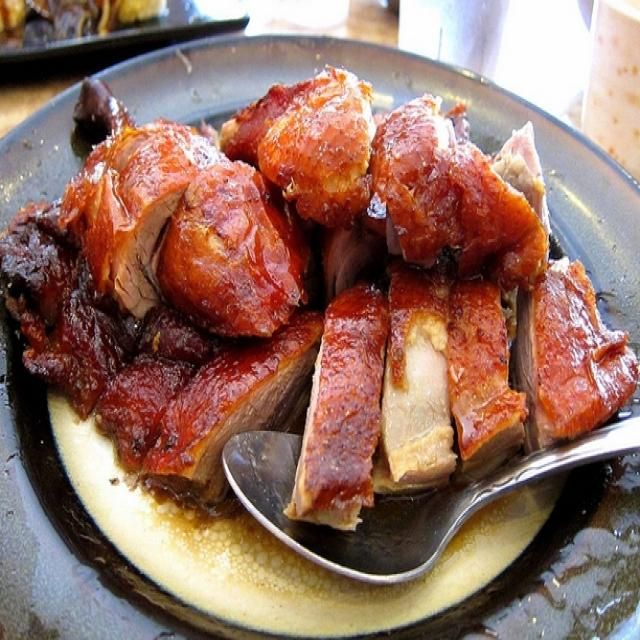烧串烤肉: (7, 36, 632, 615)
